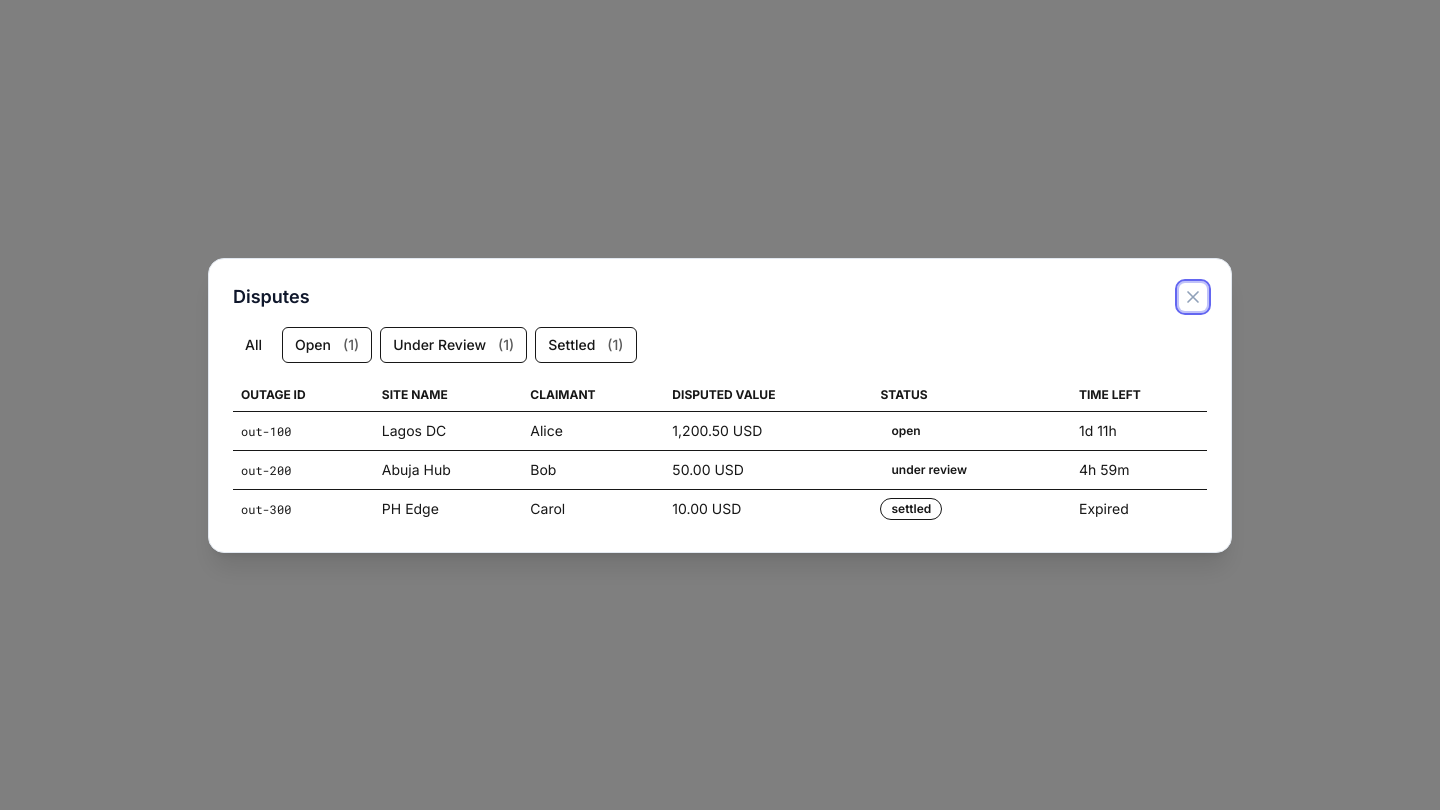
Test: DisputesDrawer (#643) › filters by status pills
The width and height of the screenshot is (1440, 810).
Click the tab "Settled (1)" at (586, 344), box [535, 326, 636, 362]
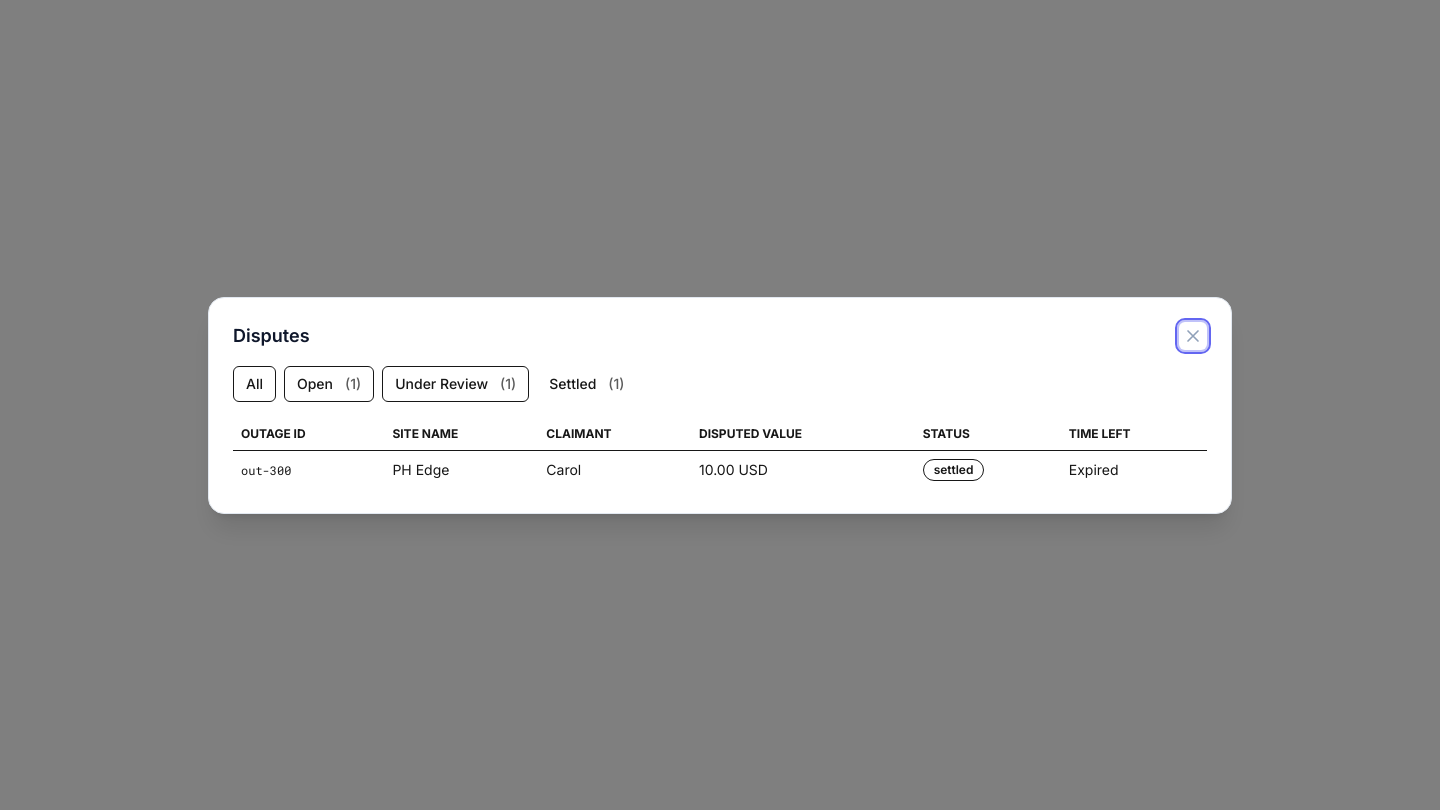
Expected: the text "out-300" is shown, [233, 450, 384, 488]
Expected: the button "out-100" is gone
